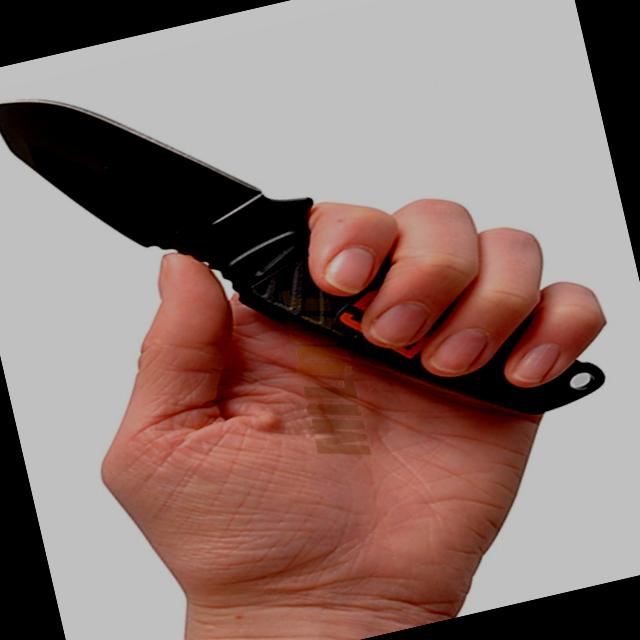knife: (0, 0, 631, 530)
